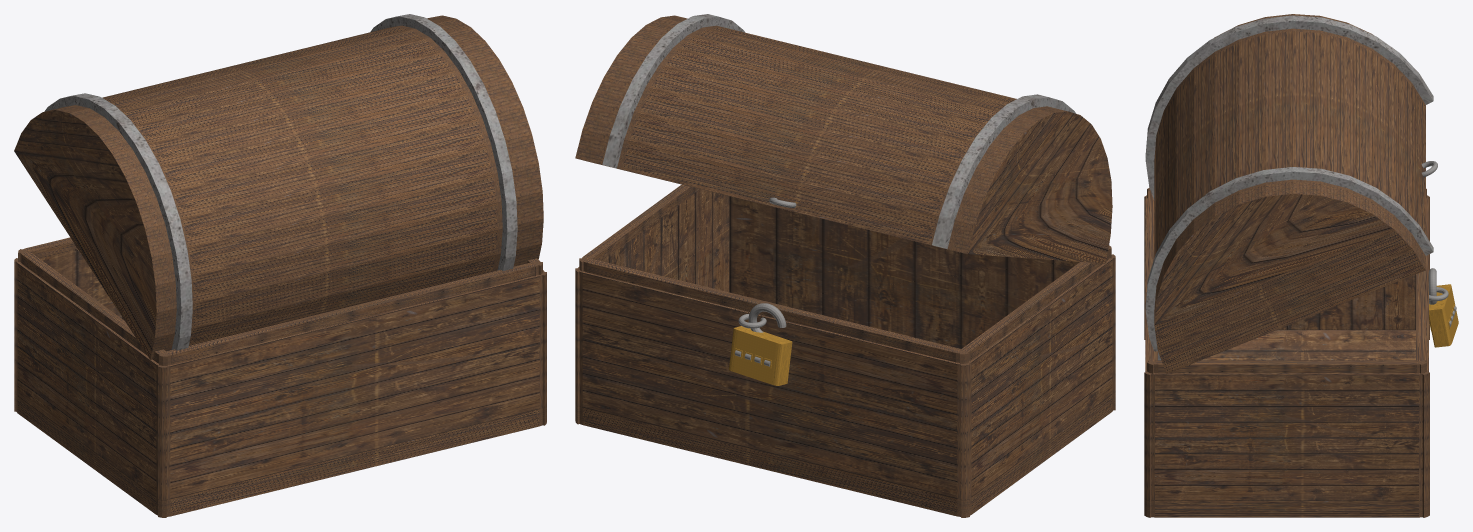
File: Bauleapertocontexturefinal3.obj
3 views of the same model, side by side, from view 1: azimuth 30°, elevation 25°; view 2: azimuth 150°, elevation 25°; view 3: azimuth 270°, elevation 25° (orthographic). The views are drawn at different scales.
Parts seen in each view (by area): view 1: Cylinder, Cube; view 2: Cube, Cylinder, Cube.001; view 3: Cylinder, Cube, Cube.001.
Boxes of the visible parts, <box> form: Cylinder: <box>14,14,543,359</box>; Cube: <box>14,237,546,517</box>; Cube: <box>575,184,1115,517</box>; Cylinder: <box>575,14,1112,263</box>; Cube.001: <box>729,326,792,385</box>; Cylinder: <box>1145,14,1433,373</box>; Cube: <box>1144,187,1429,517</box>; Cube.001: <box>1429,284,1458,347</box>.
Bounding box in the file's own units: 3.01 × 2.58 × 2.22.
4 materials, 4 textured.
